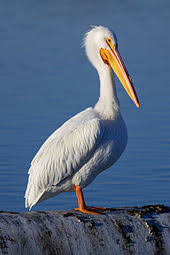pelican: (26, 25, 141, 215)
